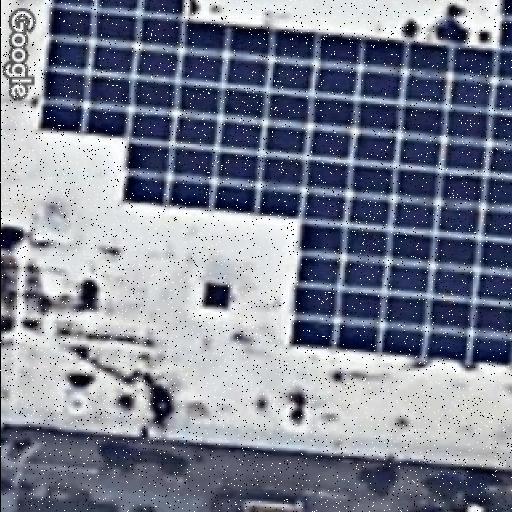solar-panel: (32, 0, 512, 374)
